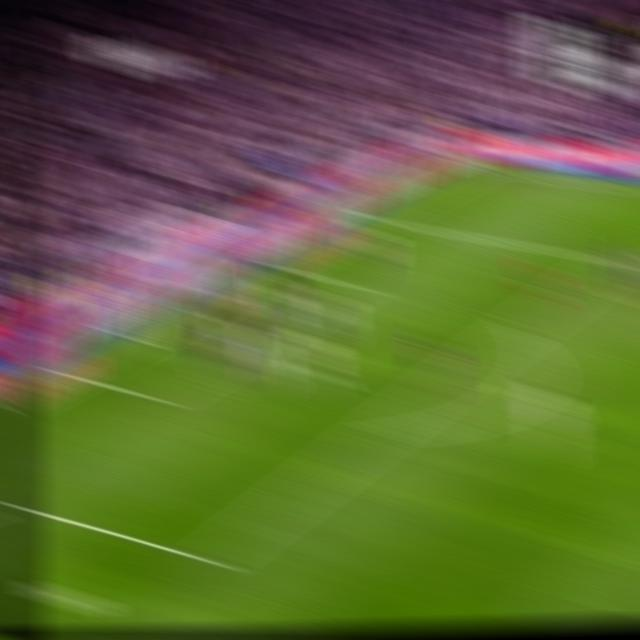bigarea_bottom_inner: (191, 540, 228, 580)
bigarea_bottom_outter: (358, 205, 388, 227)
bigarea_top_inner: (600, 248, 630, 273)
bottom_arc_area_intersection: (362, 417, 396, 447)
corner: (453, 158, 484, 175)
smallarea_top_inner: (338, 271, 368, 295)
top_arc_area_intersection: (503, 317, 534, 343)
